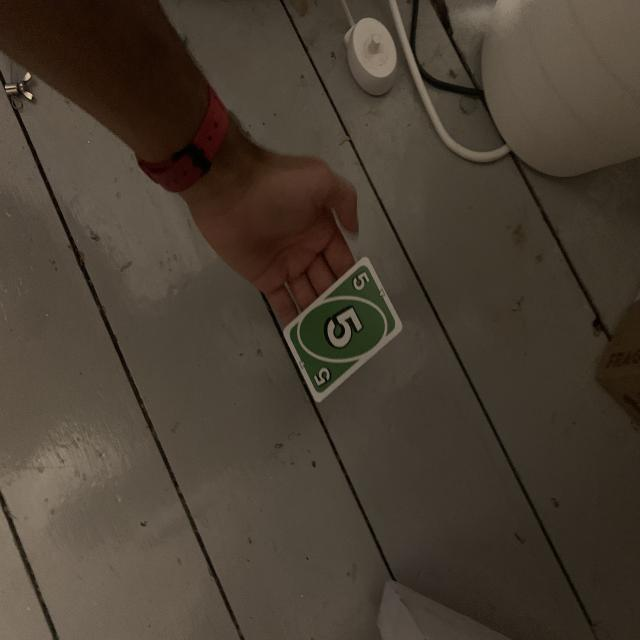lgreen-5: (349, 270, 372, 294)
